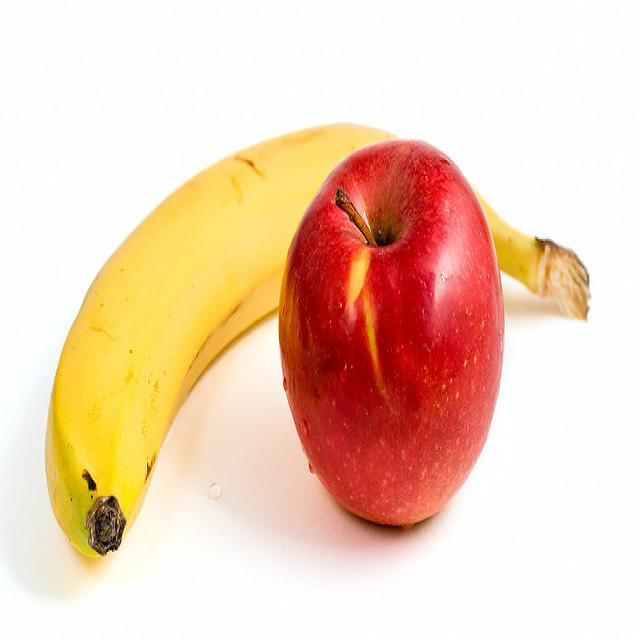apple: (274, 127, 497, 540)
banana: (44, 71, 359, 547)
